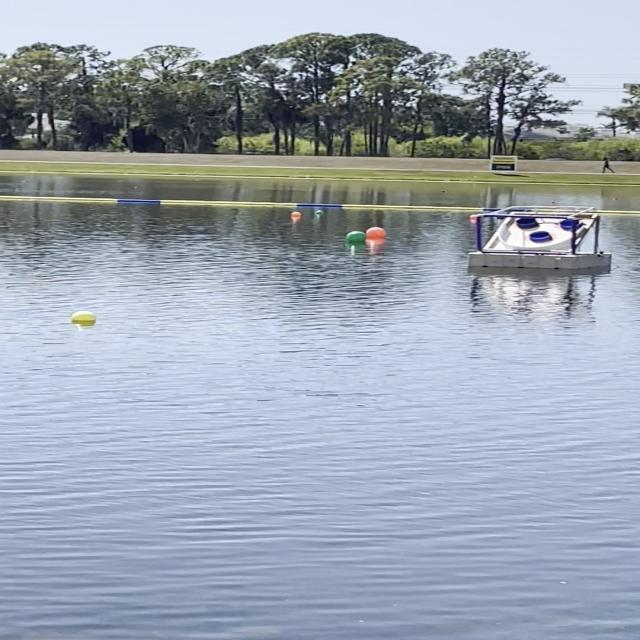buoy: (60, 304, 109, 332), (359, 223, 397, 241), (336, 232, 375, 244), (286, 208, 310, 222), (308, 208, 334, 220)
